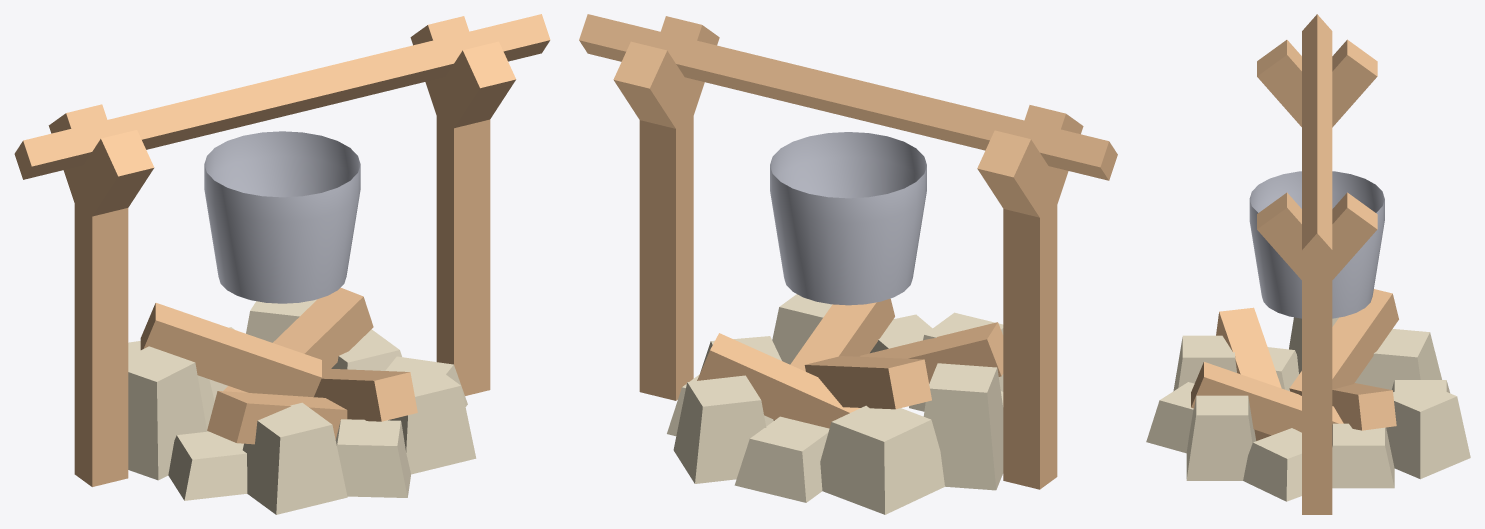
3 views of the same model, side by side, from view 1: azimuth 30°, elevation 25°; view 2: azimuth 150°, elevation 25°; view 3: azimuth 270°, elevation 25° (orthographic). The views are drawn at different scales.
Parts seen in each view (by area): view 1: campfire, rocks, bucket, wood; view 2: campfire, rocks, bucket, wood; view 3: rocks, campfire, wood, bucket.
Part boxes in pixels (box(x1,y1,x2,y2)): campfire: box(14, 14, 550, 486); rocks: box(128, 299, 476, 514); bucket: box(204, 131, 360, 303); wood: box(140, 287, 417, 444); campfire: box(579, 14, 1117, 489); rocks: box(667, 294, 1003, 514); bucket: box(770, 132, 926, 305); wood: box(697, 298, 1003, 428); rocks: box(1146, 317, 1470, 501); campfire: box(1257, 14, 1377, 514); wood: box(1191, 289, 1398, 440); bucket: box(1249, 171, 1384, 318).
Bounding box in the file's own units: 0.43 × 0.2812 × 0.2692.
